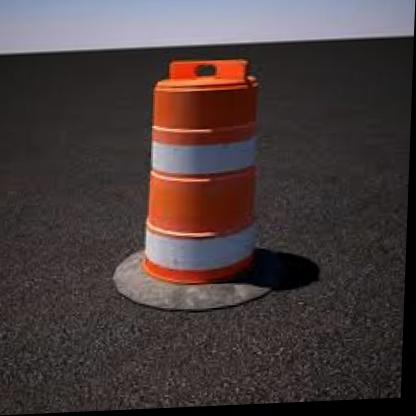obstacle: (130, 66, 275, 283)
